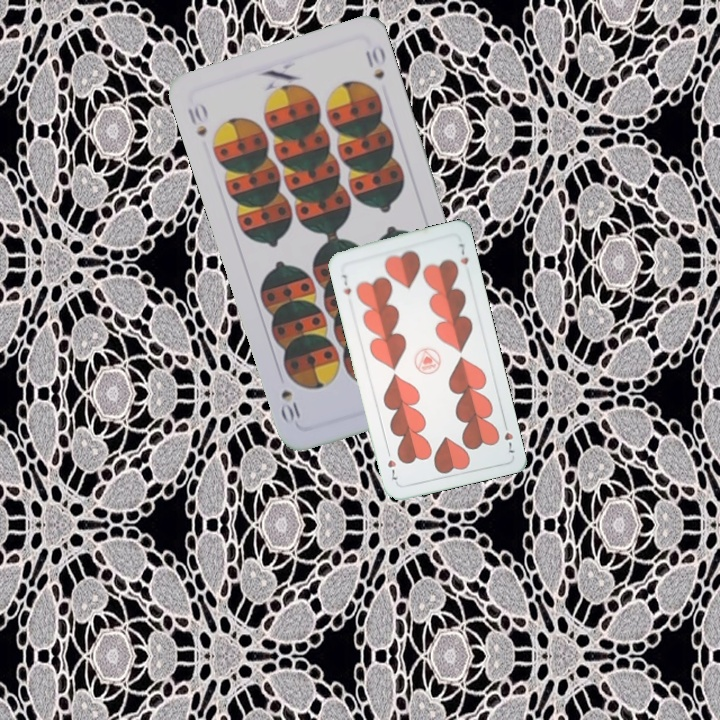H7: (500, 417, 517, 456), (338, 270, 354, 297)
S10: (183, 99, 210, 139)
